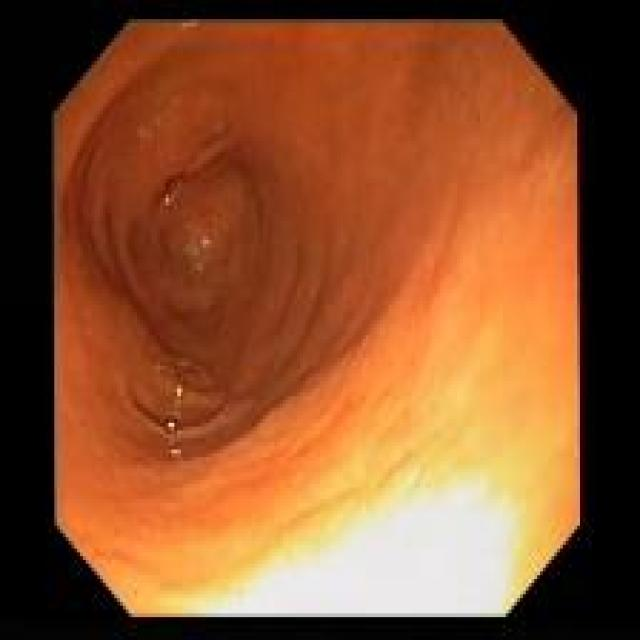bubbles: (124, 344, 230, 435)
saturation: (93, 464, 580, 616), (404, 261, 579, 465)
specularity: (158, 407, 184, 440)
